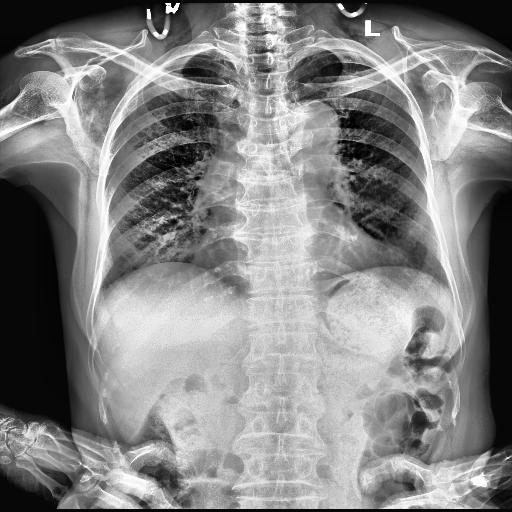0- Aortic enlargement: (274, 99, 342, 154), (288, 97, 342, 154), (284, 98, 340, 150)
3- Cardiomegaly: (192, 228, 414, 283), (194, 240, 404, 292), (192, 228, 410, 278)
